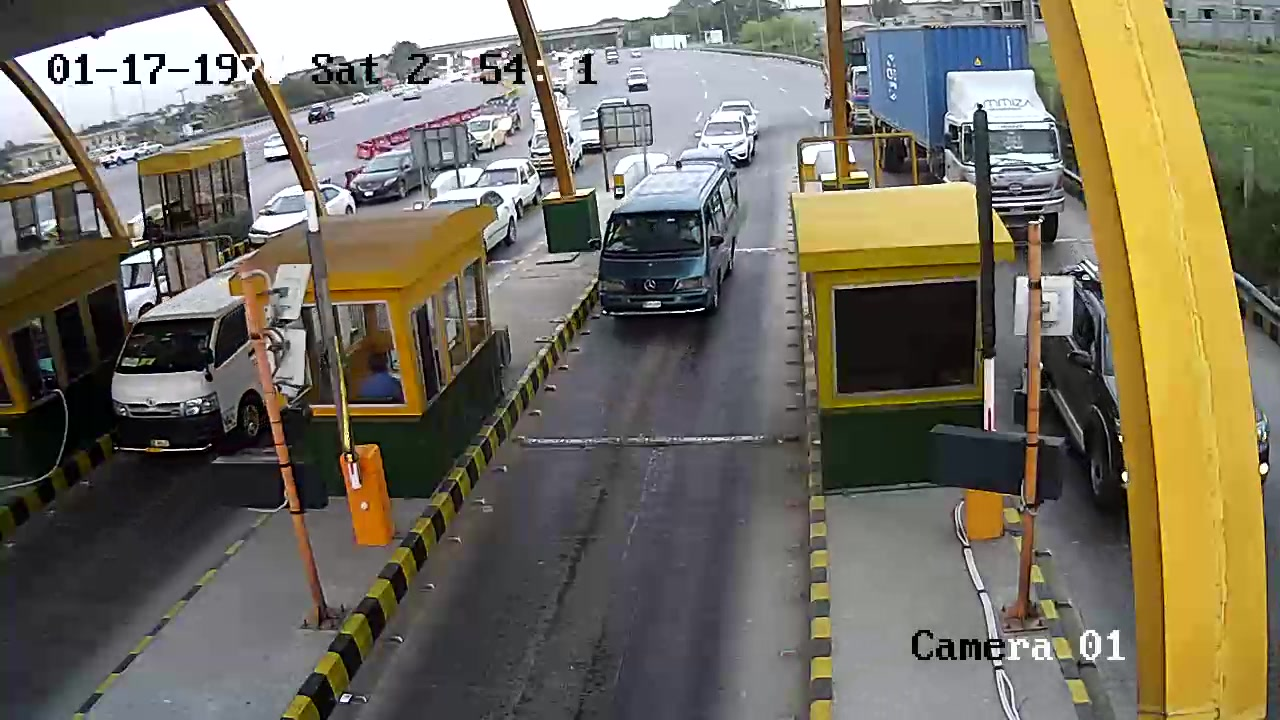F2: (593, 157, 741, 327)
